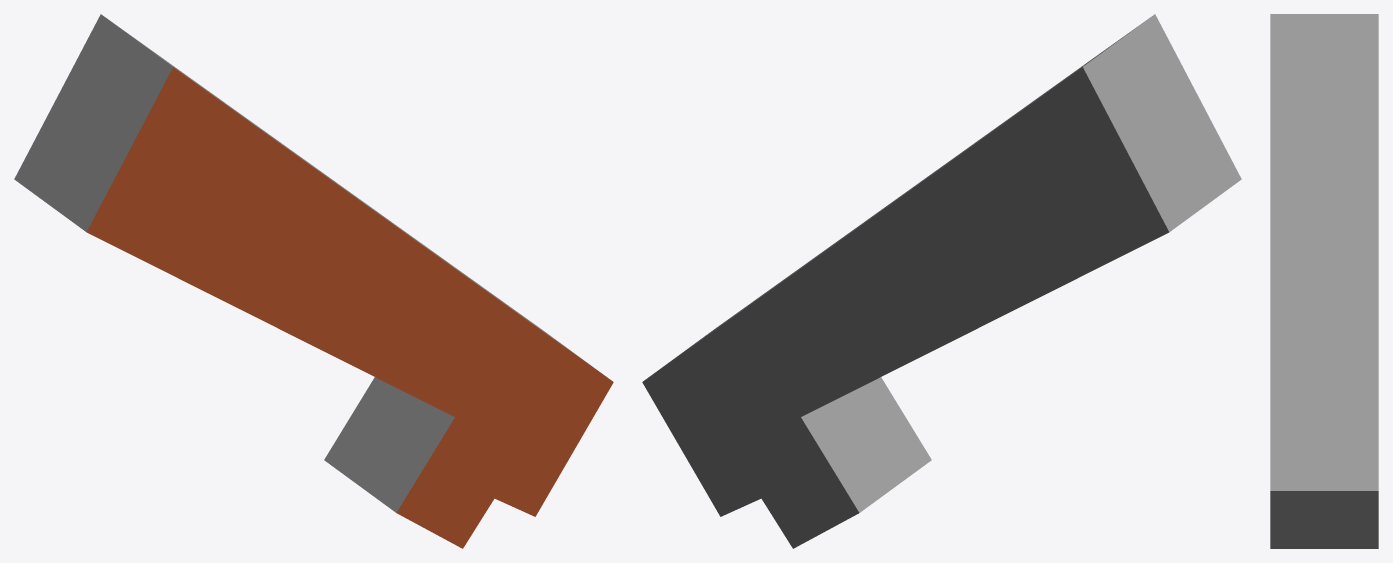
The model's file is construction_3224_assumed_A_Casa_h6m.obj.
The picture shows the model from 3 angles, left to right: view 1: azimuth 30°, elevation 25°; view 2: azimuth 150°, elevation 25°; view 3: azimuth 270°, elevation 25°; orthographic projection. The views are drawn at different scales.
Parts seen in each view (by area): view 1: construction_3224_assumed_A_Casa; view 2: construction_3224_assumed_A_Casa; view 3: construction_3224_assumed_A_Casa.
Part boxes in pixels (x1,y1,x2,y2): construction_3224_assumed_A_Casa: (14,14,613,548); construction_3224_assumed_A_Casa: (642,14,1241,548); construction_3224_assumed_A_Casa: (1270,14,1378,548).
Size of the model in its own units: 25.23 by 25.26 by 6.
